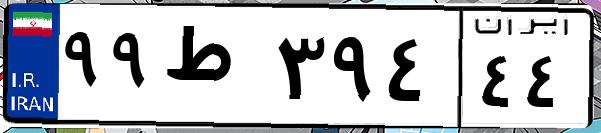3: (270, 28, 330, 110)
4: (385, 28, 445, 110), (475, 38, 525, 113), (525, 38, 570, 115)
9: (330, 28, 385, 110), (57, 26, 110, 100), (110, 28, 158, 98)
ط: (158, 20, 270, 120)
